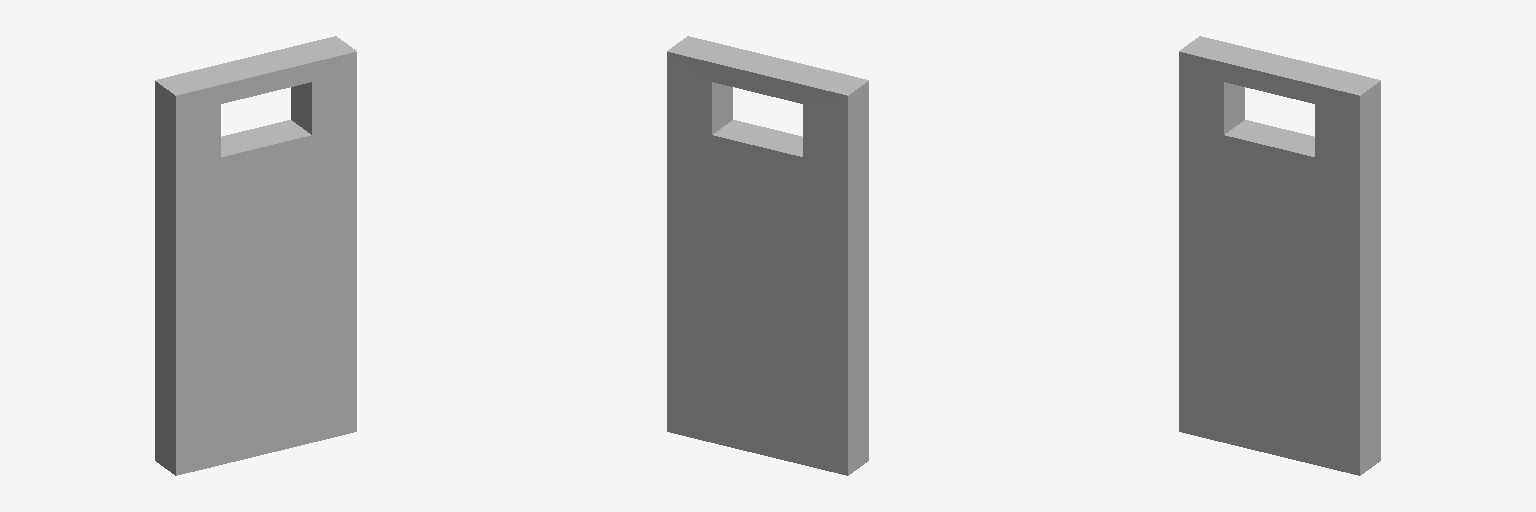
The model's file is door.obj.
3 views of the same model, side by side, from view 1: azimuth 30°, elevation 25°; view 2: azimuth 150°, elevation 25°; view 3: azimuth 330°, elevation 25° (orthographic).
Bounding box in the file's own units: 1 × 2 × 0.2026.